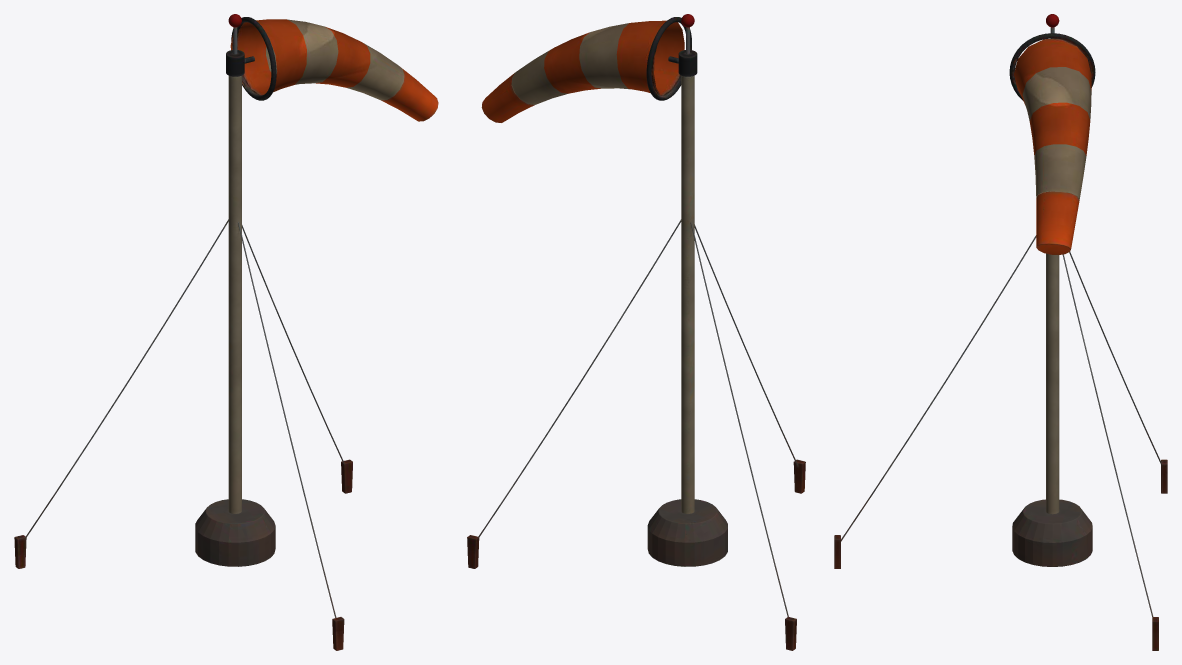
Rendered from windsock.glb.
The picture shows the model from 3 angles, left to right: view 1: azimuth 30°, elevation 25°; view 2: azimuth 150°, elevation 25°; view 3: azimuth 270°, elevation 25°; orthographic projection.
Parts seen in each view (by area): view 1: windsock; view 2: windsock; view 3: windsock.
Boxes of the visible parts, x1,y1,x2,y2 form: windsock: [14, 14, 438, 650]; windsock: [467, 14, 805, 650]; windsock: [834, 14, 1167, 650].
Bounding box in the file's own units: 3.13 × 4.56 × 2.48.
Materials: 1 (1 with a texture image).
